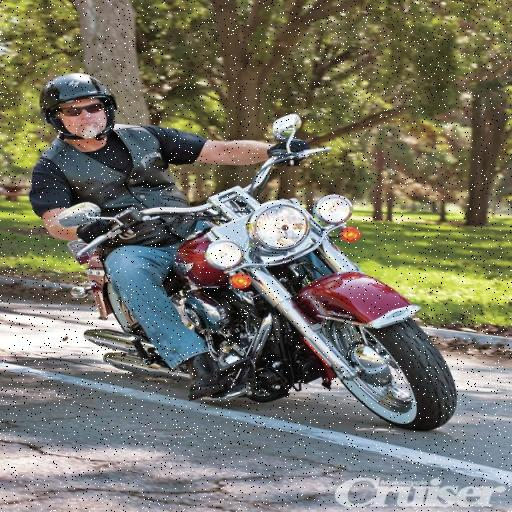Helmet: (42, 65, 117, 150)
Motor: (50, 202, 454, 448)
